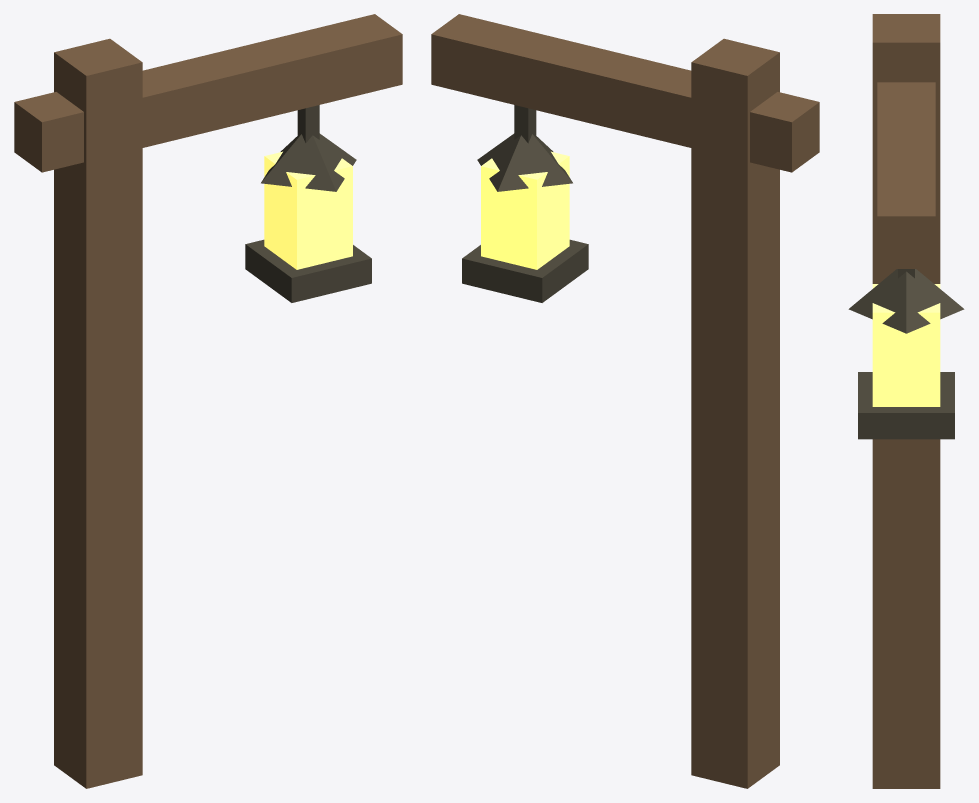
File: lantern.glb
3 renders of one model, left to right at view 1: azimuth 30°, elevation 25°; view 2: azimuth 150°, elevation 25°; view 3: azimuth 270°, elevation 25°, orthographic. The views are drawn at different scales.
Parts seen in each view (by area): view 1: Post, Hanger, Light; view 2: Post, Hanger, Light; view 3: Post, Hanger, Light.
Part boxes in pixels (<box>): Post: <box>14,14,402,788</box>; Hanger: <box>245,105,371,302</box>; Light: <box>264,151,352,269</box>; Post: <box>431,14,819,788</box>; Hanger: <box>462,105,588,302</box>; Light: <box>481,151,569,269</box>; Post: <box>872,14,940,788</box>; Hanger: <box>848,269,964,439</box>; Light: <box>872,284,940,406</box>.
Bounding box in the file's own units: 1.8 × 3.4 × 0.48.
